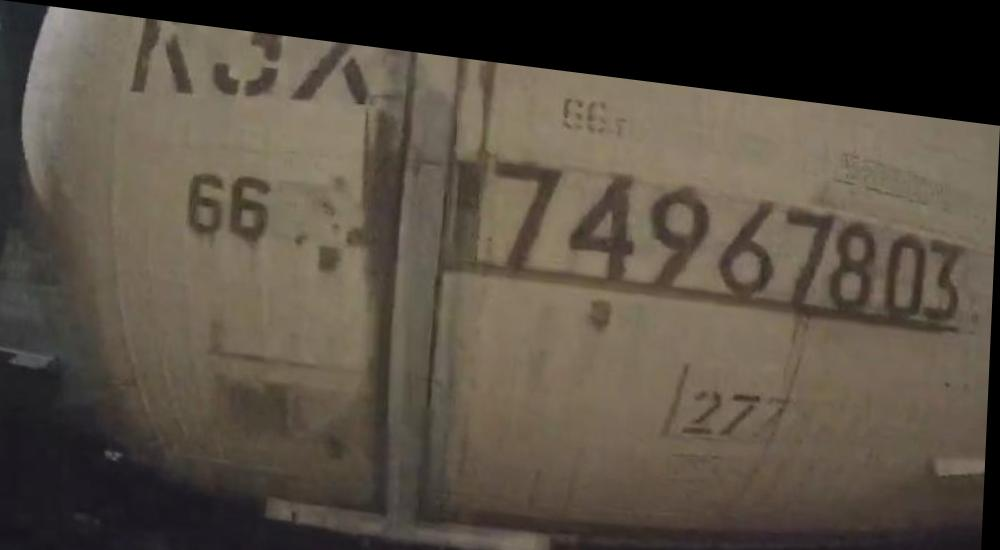Wagon-number: (484, 139, 972, 302)
